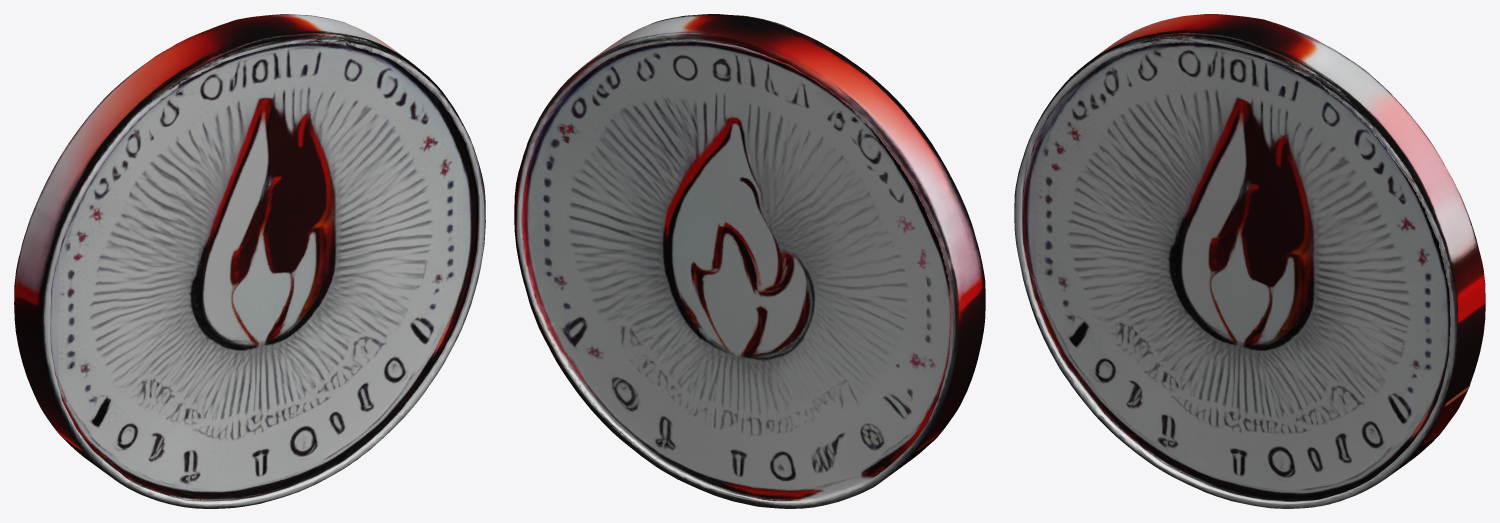
Rendered from chili_token_coin-B2OC_HIn.glb.
3 views of the same model, side by side, from view 1: azimuth 30°, elevation 25°; view 2: azimuth 150°, elevation 25°; view 3: azimuth 330°, elevation 25° (orthographic).
Visible parts, largest first — view 1: geometry_0; view 2: geometry_0; view 3: geometry_0.
Part boxes in pixels (x1,y1,x2,y2): geometry_0: (14,14,485,508); geometry_0: (514,14,985,508); geometry_0: (1014,14,1485,508).
Bounding box in the file's own units: 1 × 0.9983 × 0.1177.
1 material, 1 textured.
